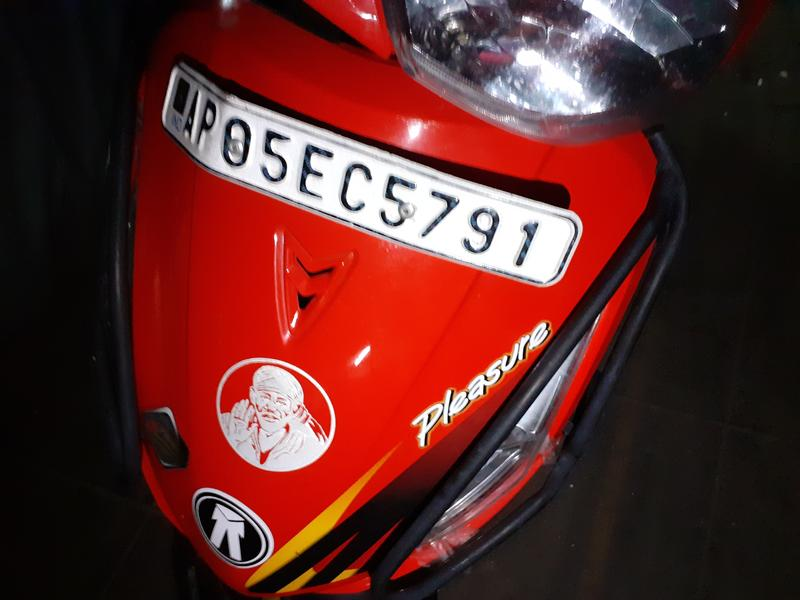numberplate: (156, 66, 569, 283)
